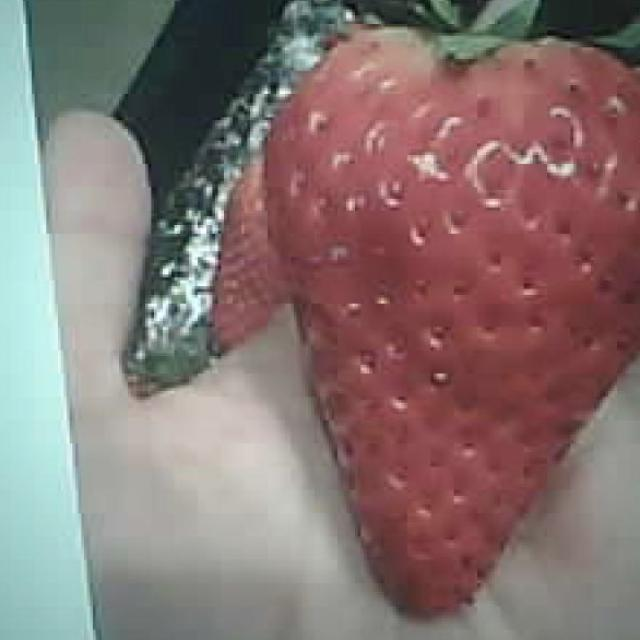Healthy Fruit: (263, 29, 640, 628)
